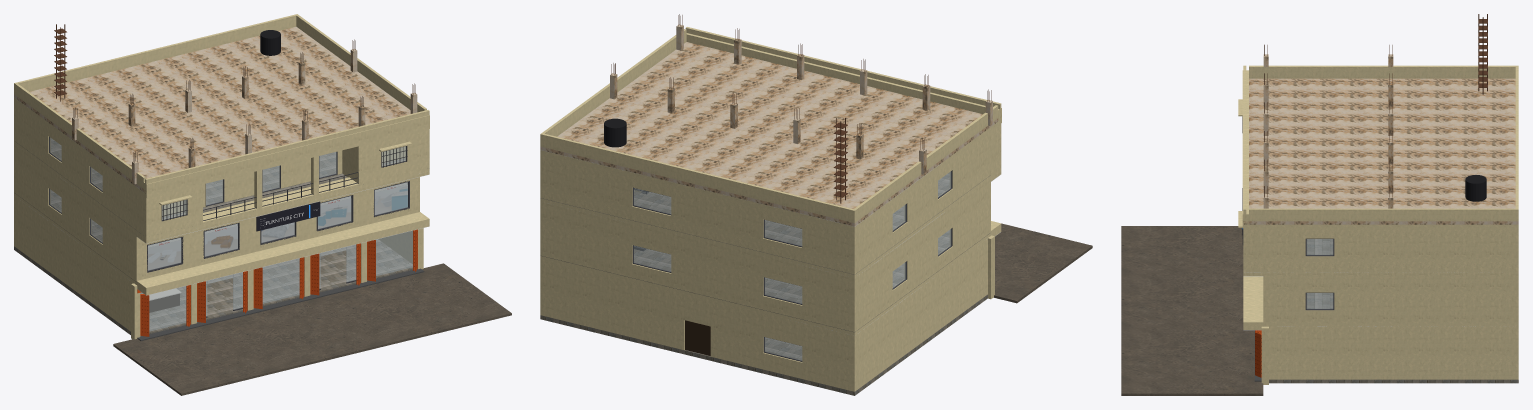
Rendered from furniture-city.v1.glb.
3 renders of one model, left to right at view 1: azimuth 30°, elevation 25°; view 2: azimuth 150°, elevation 25°; view 3: azimuth 270°, elevation 25°, orthographic. The views are drawn at different scales.
Parts seen in each view (by area): view 1: fc_roof, fc_shell_0, fc_shell_1, fc_shell_2; view 2: fc_roof, fc_shell_0, fc_shell_1, fc_shell_2; view 3: fc_roof, fc_shell_0, fc_shell_1, fc_shell_2.
Boxes of the visible parts, x1,y1,x2,y2 form: fc_roof: (14, 14, 429, 197); fc_shell_0: (14, 196, 511, 395); fc_shell_1: (14, 144, 429, 295); fc_shell_2: (14, 97, 429, 236); fc_roof: (540, 14, 1001, 226); fc_shell_0: (540, 223, 1092, 395); fc_shell_1: (540, 166, 1001, 335); fc_shell_2: (540, 121, 1001, 277); fc_roof: (1242, 14, 1518, 228); fc_shell_0: (1121, 226, 1518, 395); fc_shell_1: (1242, 188, 1518, 330); fc_shell_2: (1238, 99, 1518, 272).
Size of the model in its own units: 28 by 18.65 by 28.
28 materials, 11 textured.
